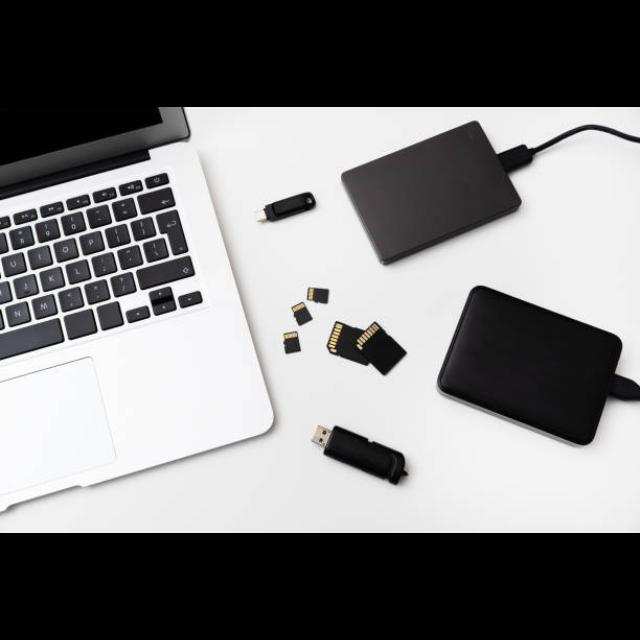HDD: (436, 286, 623, 449), (339, 121, 523, 267)
